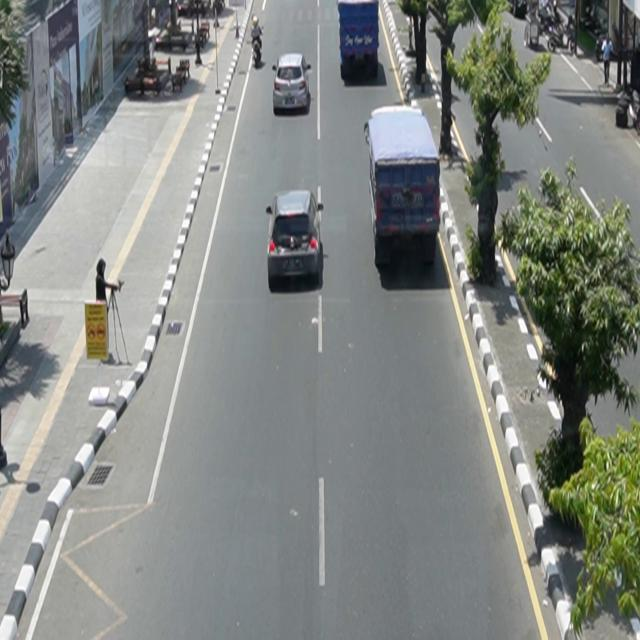car: (266, 189, 325, 292), (273, 53, 313, 115)
truck: (364, 103, 442, 269)
